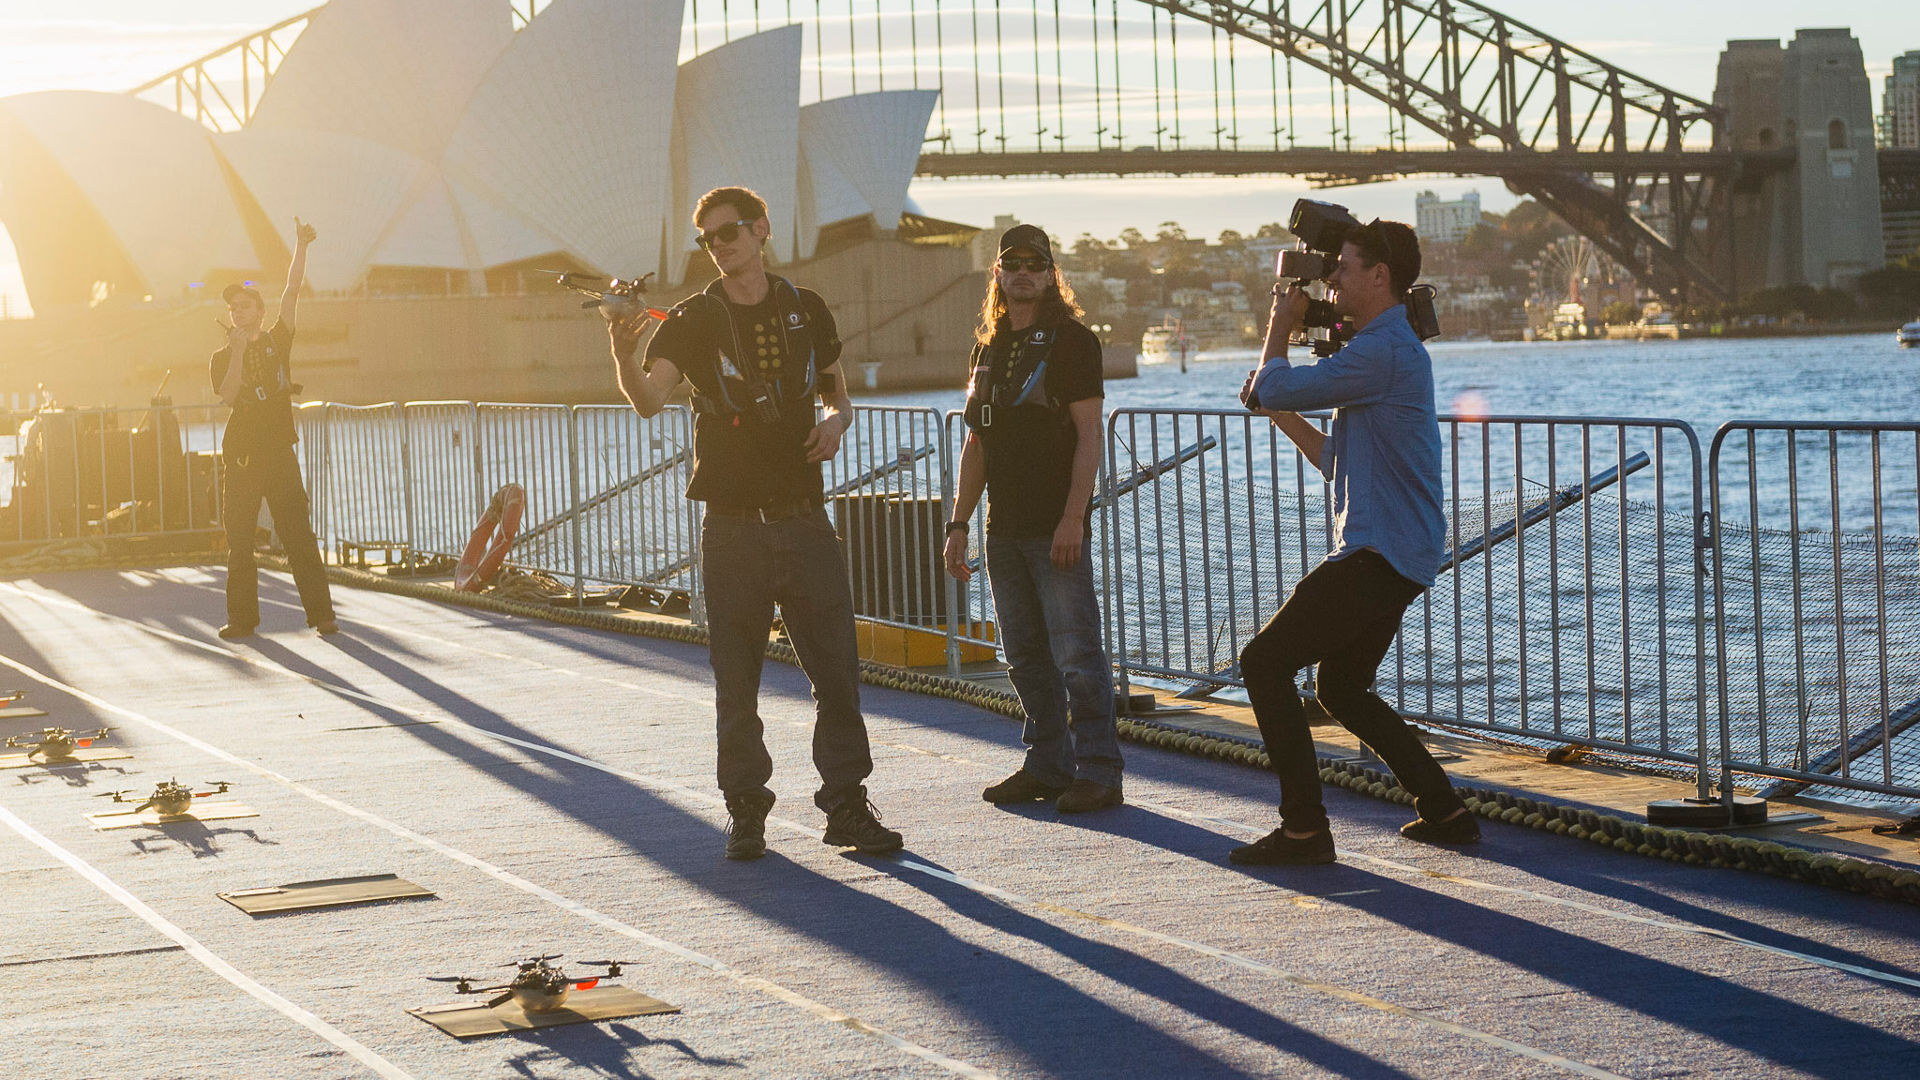drone: (422, 945, 646, 1018), (532, 265, 682, 341), (96, 777, 251, 829), (1, 722, 127, 764), (1, 684, 41, 722)
person: (606, 189, 917, 859), (1218, 197, 1486, 879), (940, 223, 1134, 820), (198, 208, 350, 653)
shadow_of_drone: (471, 1011, 746, 1077), (120, 811, 285, 856)
